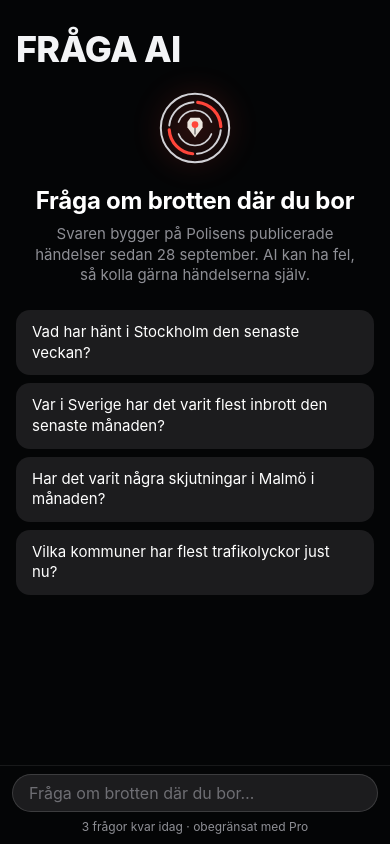
Test: Fråga AI › answers a question and counts down what is left today
expect the text "3 frågor kvar idag · obegränsat med Pro" is shown: met, box x1=82 y1=819 x2=308 y2=834
Type "Vad har hänt i Lund?" into the text box named "Din fråga" at (182,793), box x1=29 y1=778 x2=336 y2=808
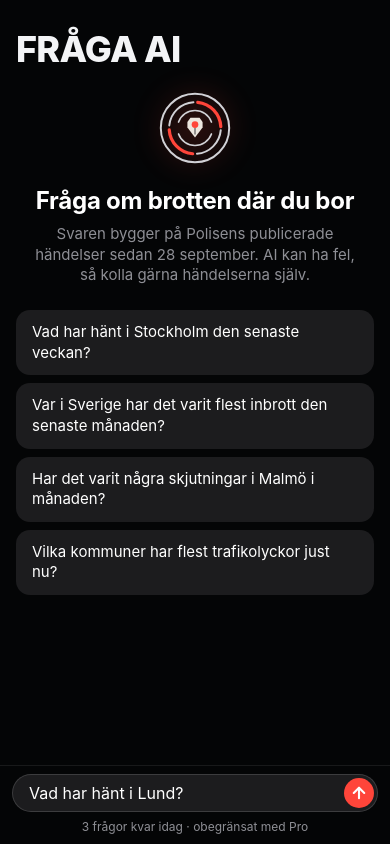
Click the button named "Skicka" at (359,793), box x1=344 y1=778 x2=374 y2=808
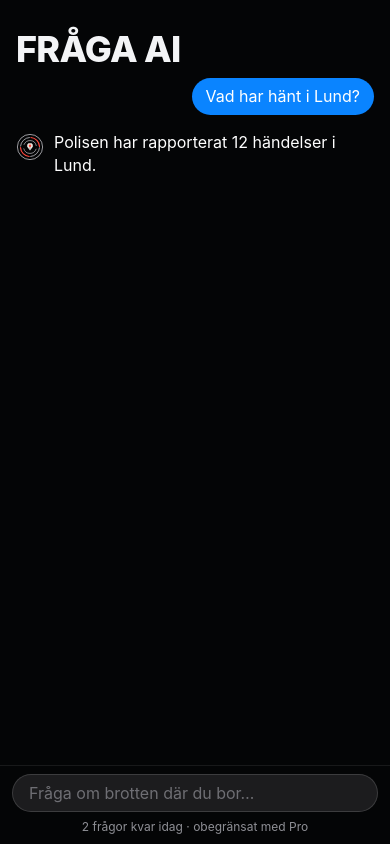
expect the text "Polisen har rapporterat 12 händelser i Lund." is shown: met, box x1=54 y1=131 x2=374 y2=177
expect the text "2 frågor kvar idag · obegränsat med Pro" is shown: met, box x1=82 y1=819 x2=308 y2=834
